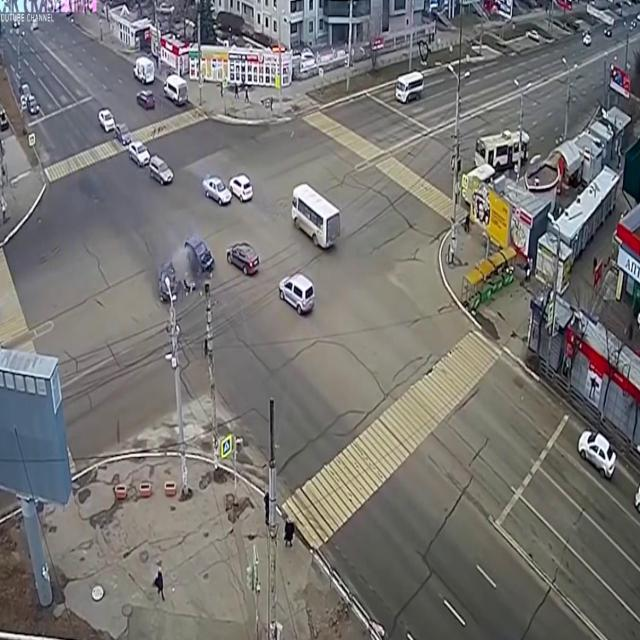accident: (155, 221, 219, 313)
non_accident: (96, 100, 176, 192)
